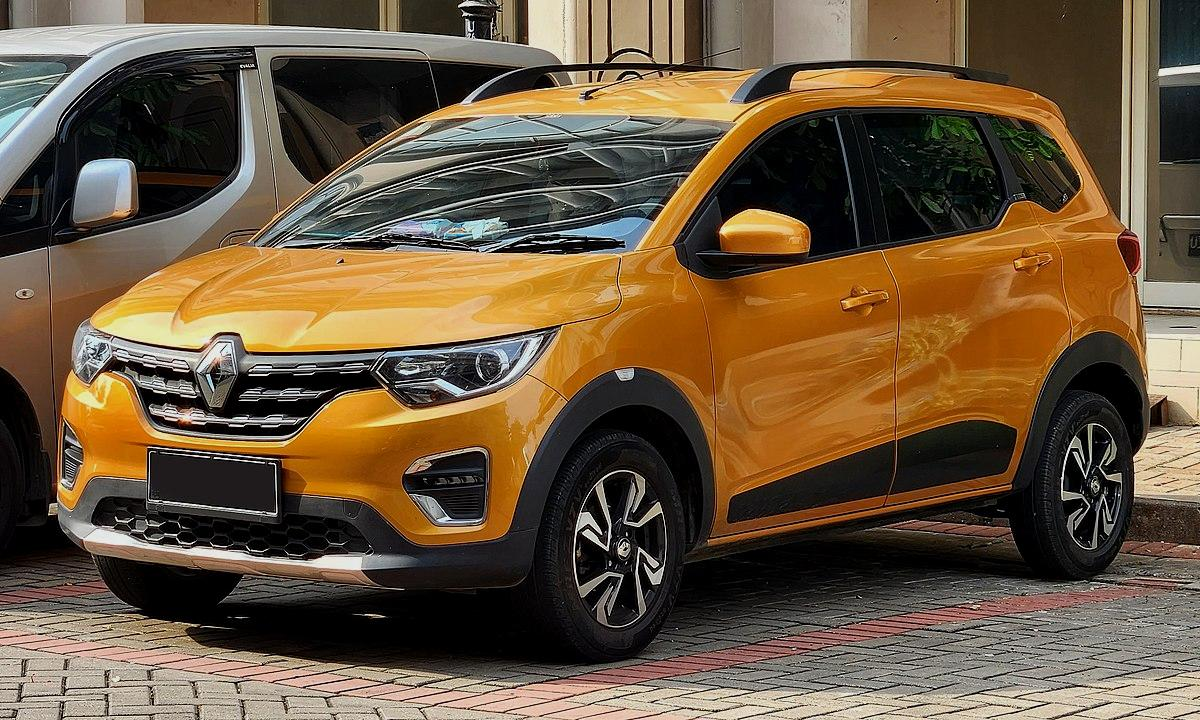Renault: (182, 320, 257, 423)
